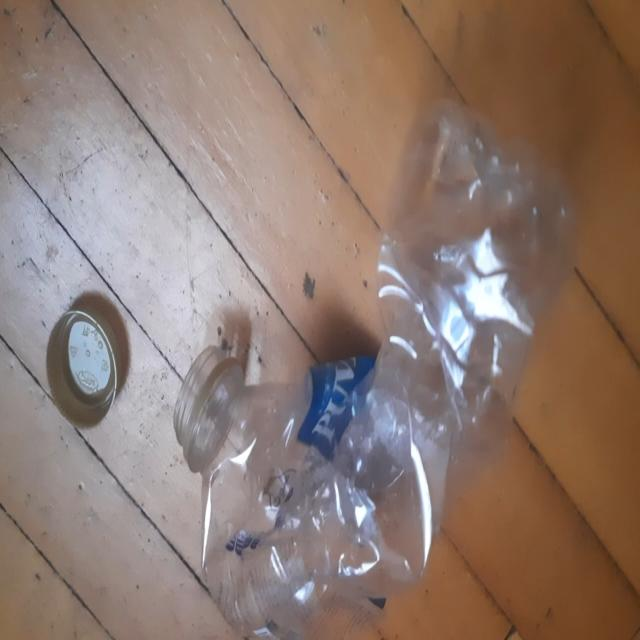Plastic: (175, 98, 576, 637)
